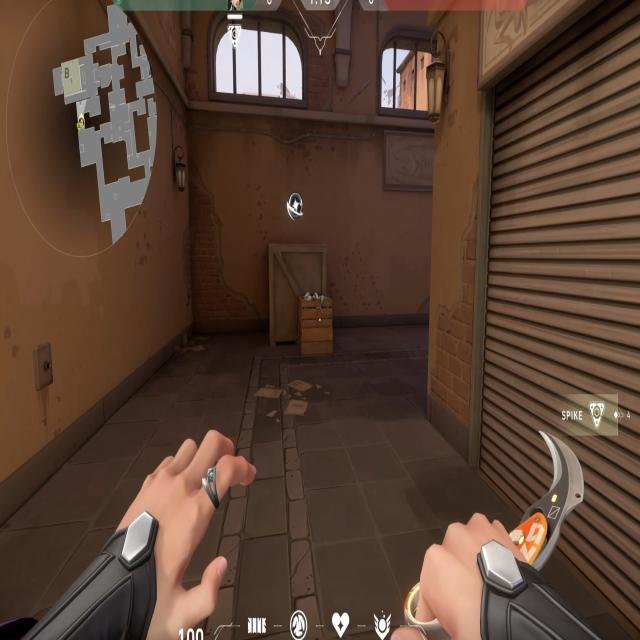B_Main_Wallbang: (226, 184, 308, 345)
